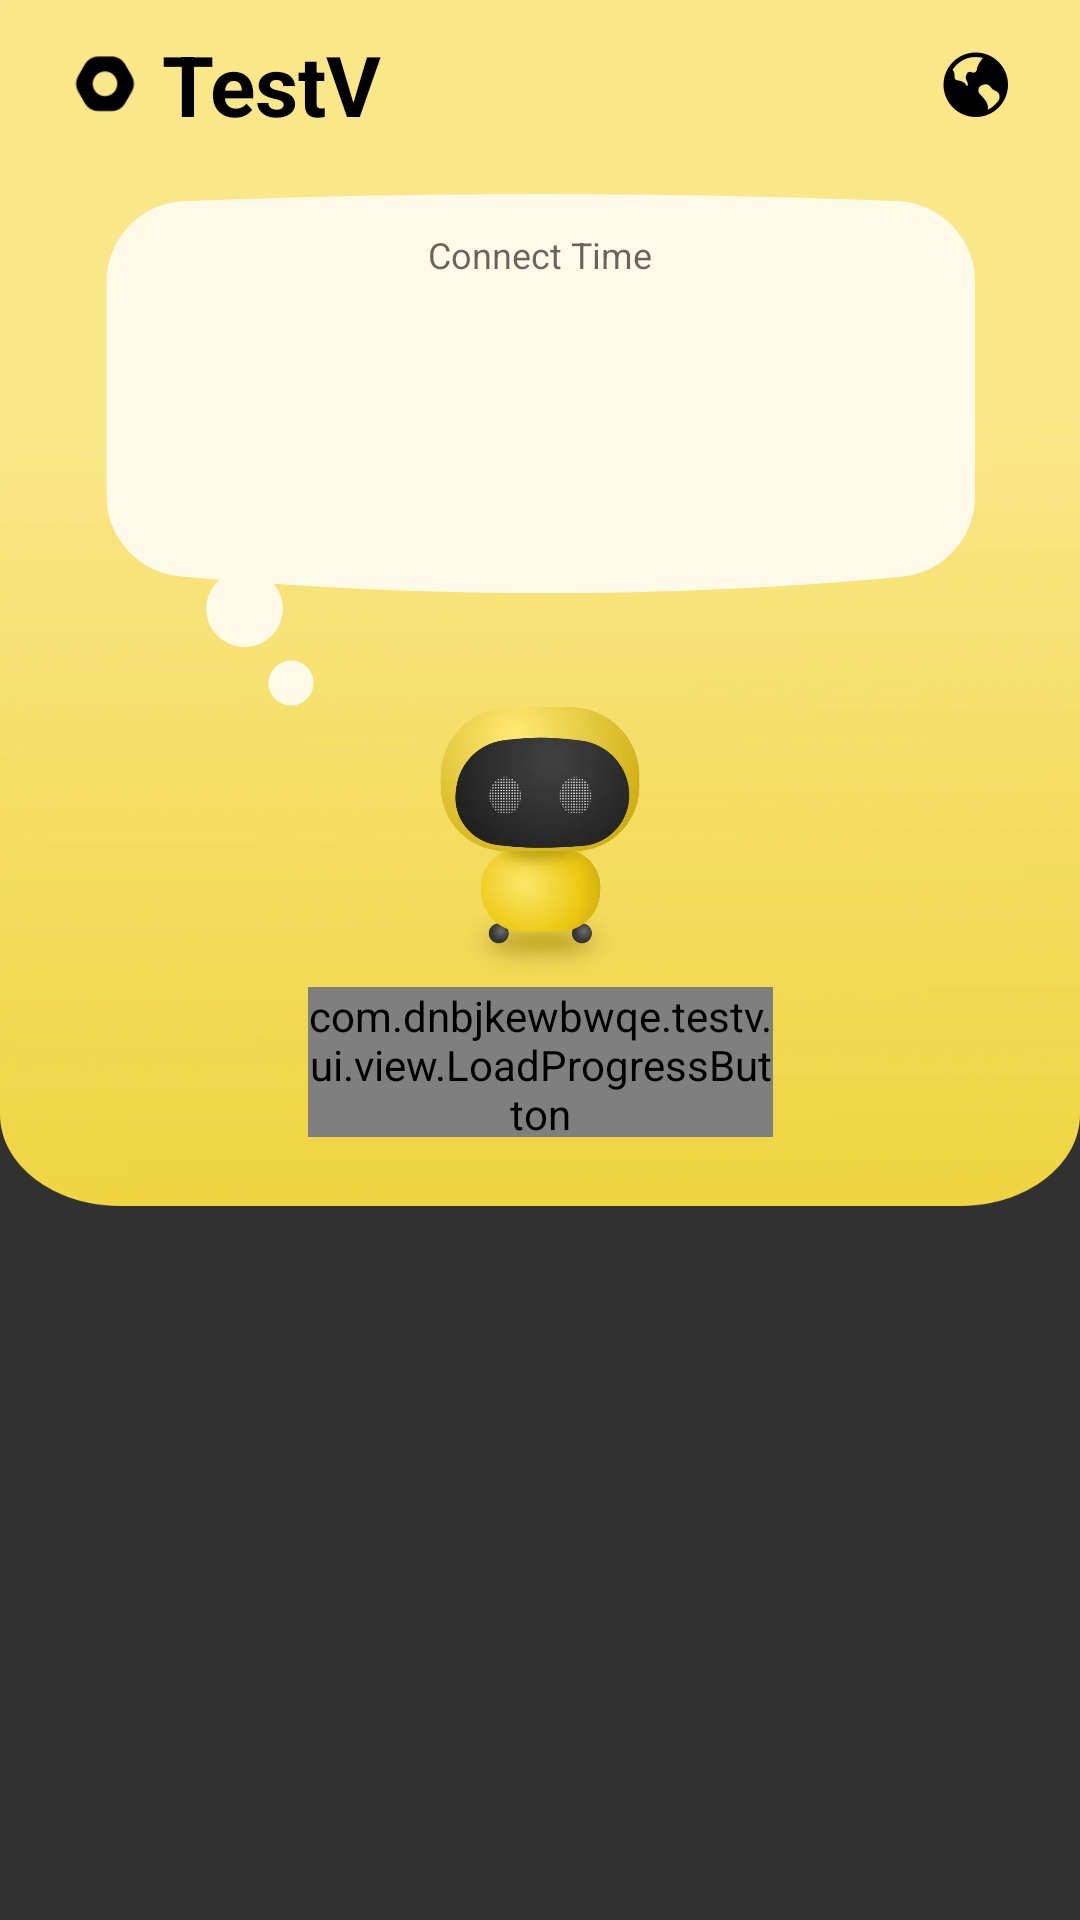

Point at icon controls on the screen. Image size 1080 x 1920, points as (x=x, y=y).
robot idle: (x=540, y=843)
server: (x=975, y=84)
setting: (x=105, y=84)
